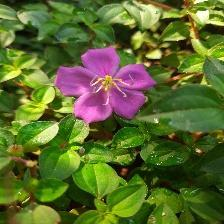malabar melastome: (55, 47, 158, 124)
